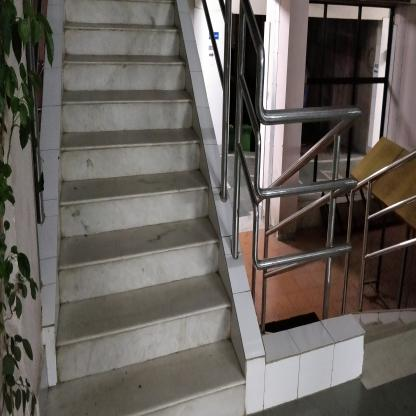stairs: (61, 151, 204, 414)
